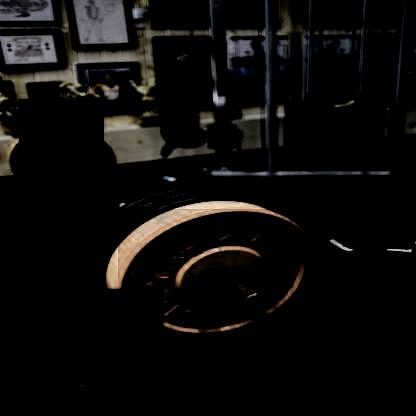barbell: (117, 210, 317, 343)
